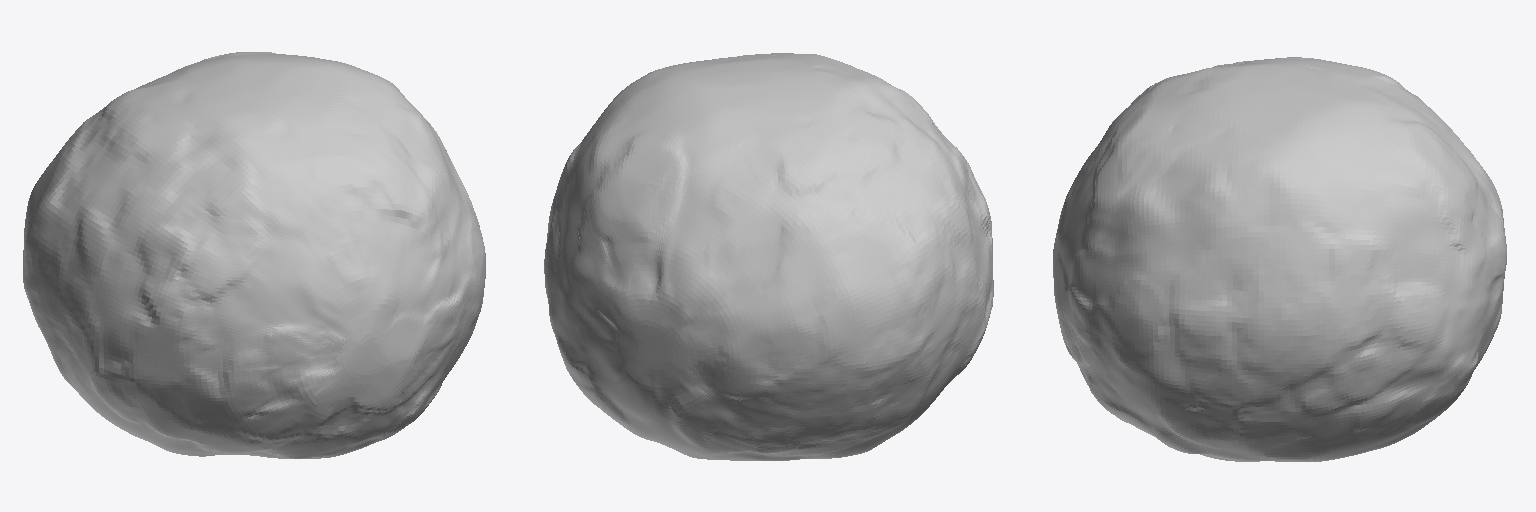
The model's file is Snowman_Bottom.OBJ.
3 renders of one model, left to right at view 1: azimuth 30°, elevation 25°; view 2: azimuth 150°, elevation 25°; view 3: azimuth 270°, elevation 25°, orthographic.
Parts seen in each view (by area): view 1: Group18273; view 2: Group18273; view 3: Group18273.
Boxes of the visible parts, x1,y1,x2,y2 form: Group18273: [23, 52, 485, 458]; Group18273: [544, 53, 993, 460]; Group18273: [1053, 57, 1506, 461].
Size of the model in its own units: 2.05 by 1.7 by 2.08.